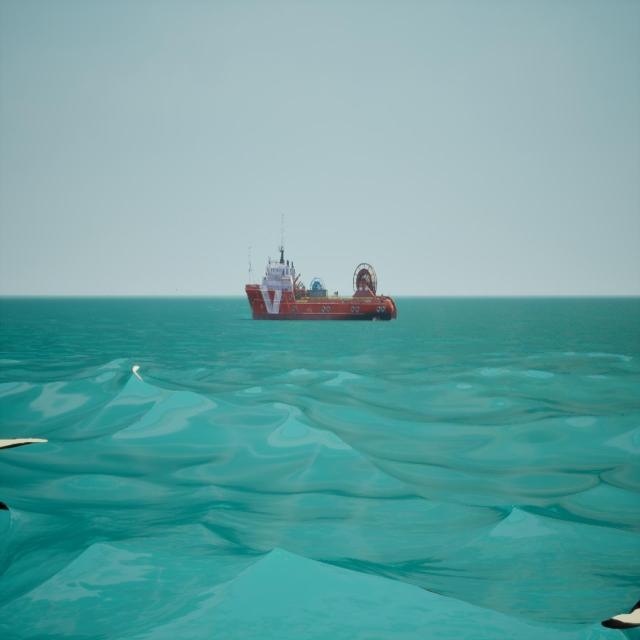tug boat: (246, 215, 396, 326)
